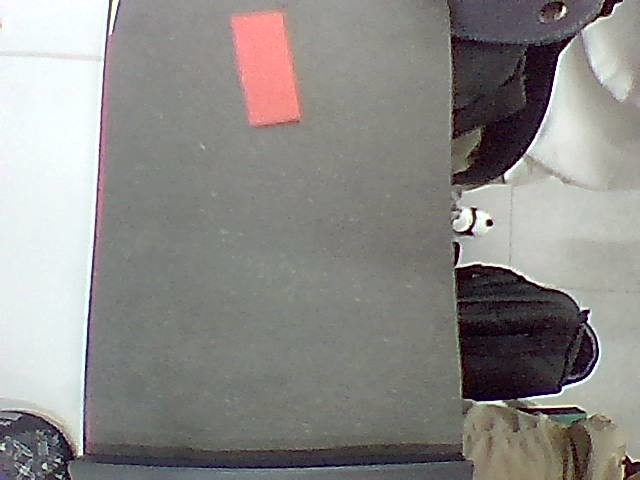card: (232, 11, 300, 127)
